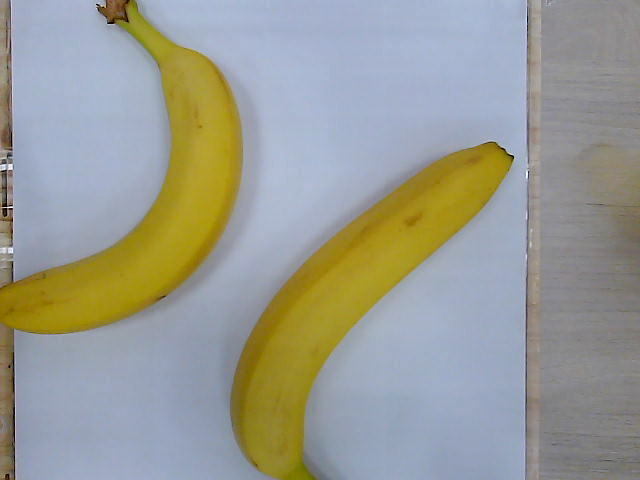fresh_banana: (230, 140, 514, 480), (2, 1, 241, 335)
